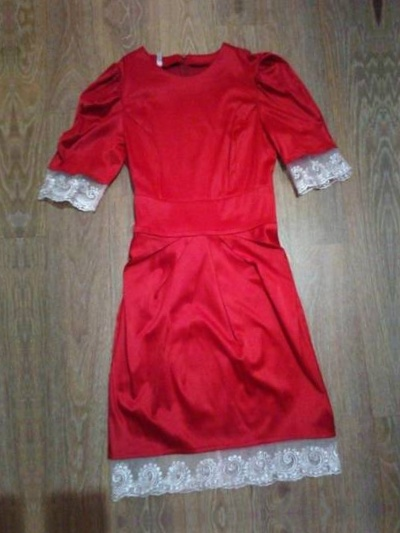Dress: (26, 17, 381, 516), (0, 35, 16, 533), (52, 519, 400, 533)
